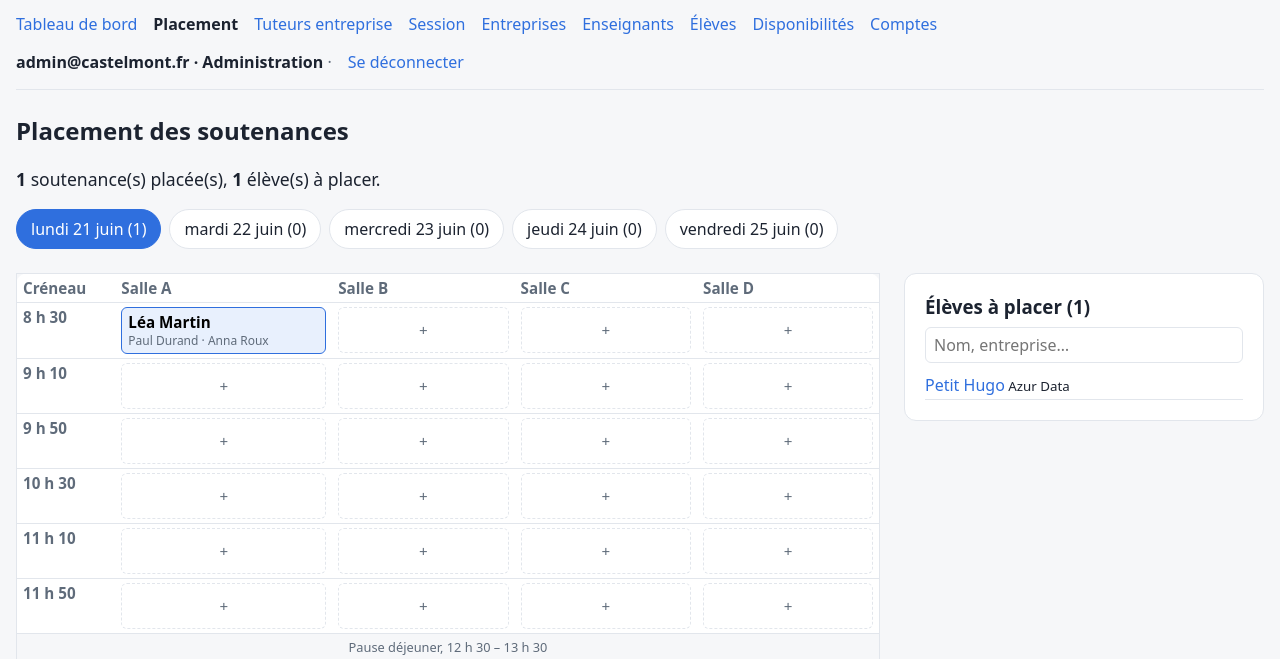
it: PlacementPage, placing › pre-fills the slot and the room of the clicked cell, and checks the proposal live
Click the button named "Placer lun. 21 8 h 30, Salle B": (423, 330) [338,306,509,352]
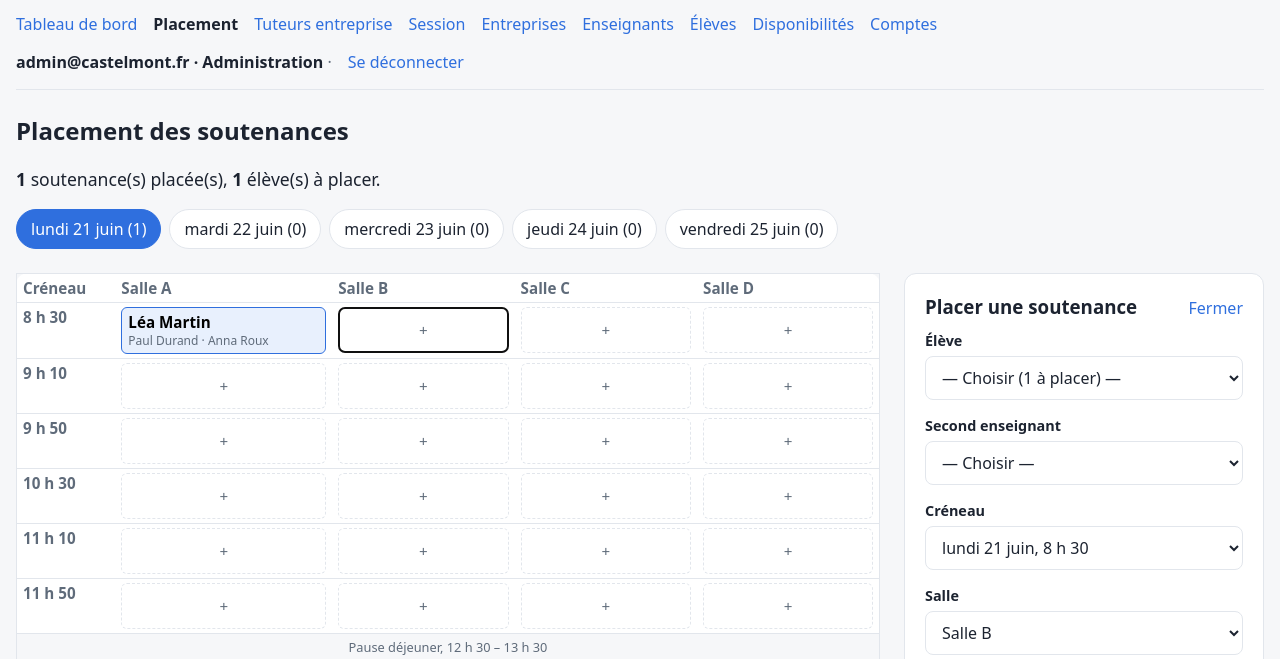
Select "Petit Hugo — Azur Data" in the dropdown labelled "Élève": (1084, 378) [925,356,1243,400]
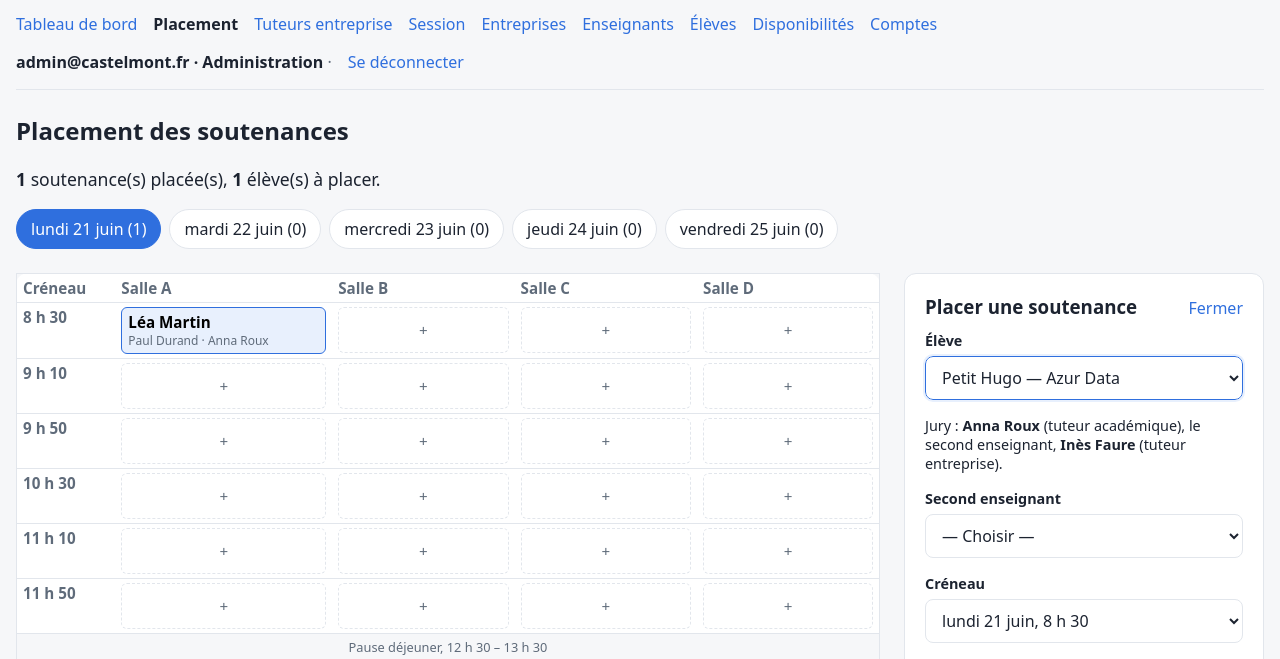
Select "Durand Paul" in the dropdown labelled "Second enseignant": (1084, 536) [925,514,1243,558]
(page scrolled)
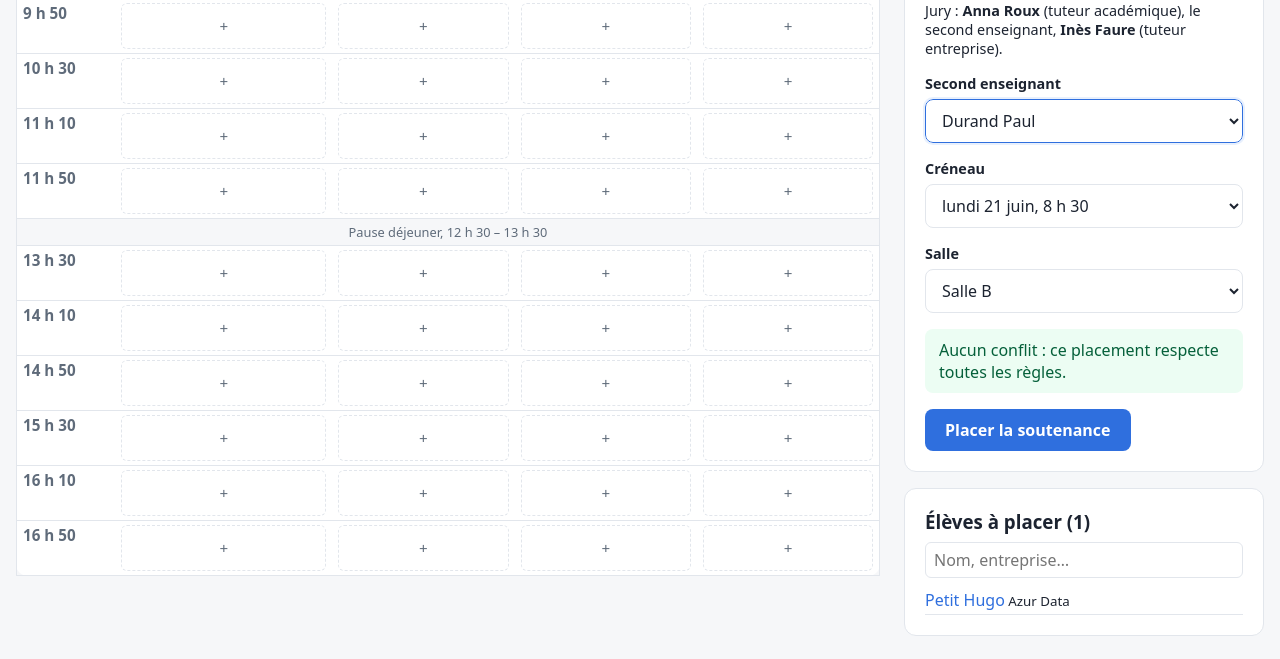
Check: the dropdown labelled "Créneau" shows "lundi 21 juin, 8 h 30", box [925,184,1243,228]
Check: the dropdown labelled "Salle" shows "Salle B", box [925,268,1243,312]
Check: the text "Aucun conflit : ce placement respecte toutes les règles." is shown, box [925,328,1243,392]
